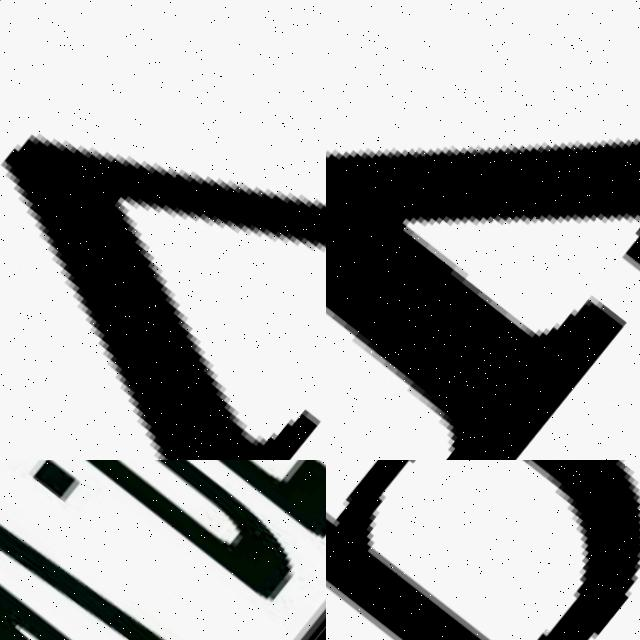1: (0, 460, 326, 534)
4: (0, 460, 243, 640)
5: (0, 460, 326, 594), (0, 462, 138, 640)
D: (0, 460, 317, 640)
N: (0, 460, 177, 640)
P: (326, 460, 640, 640)
V: (0, 0, 326, 460), (326, 0, 640, 460)
